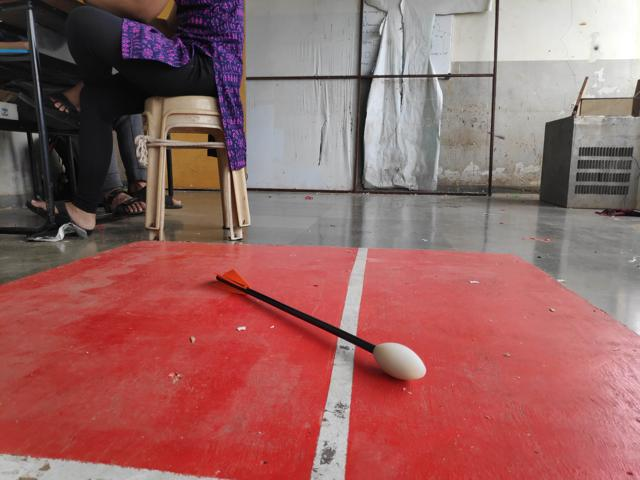Head: (369, 340, 429, 383)
